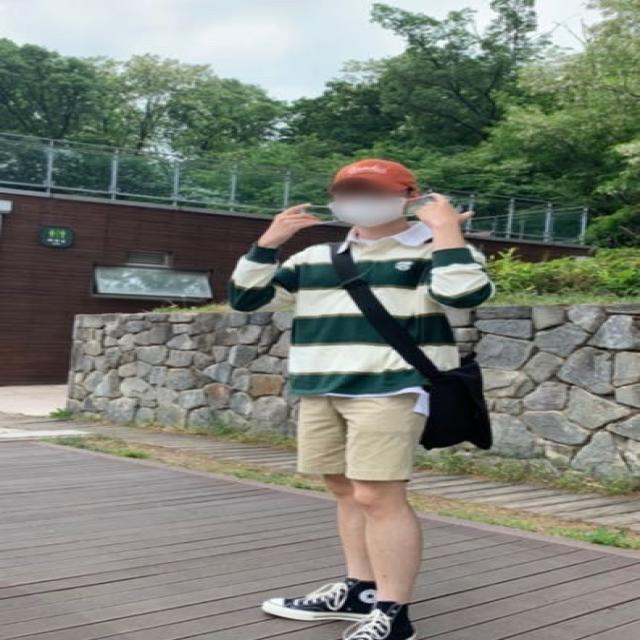longsleeve: (230, 217, 497, 391)
shortpants: (298, 386, 427, 484)
